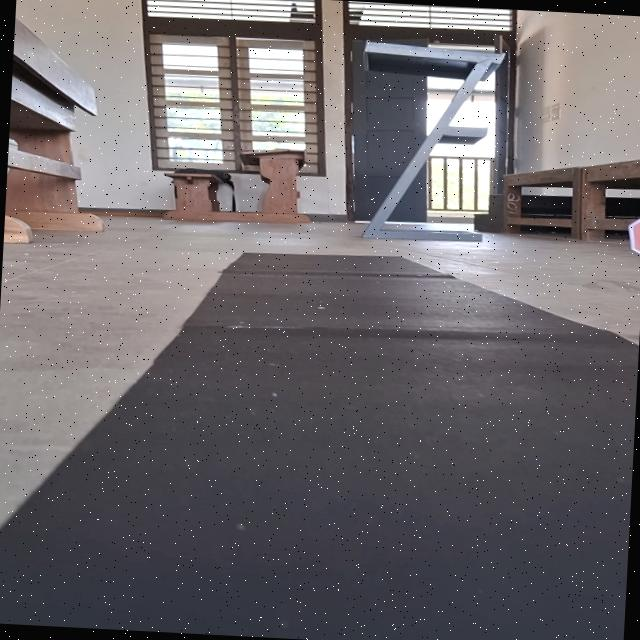Stop: (625, 204, 640, 268)
